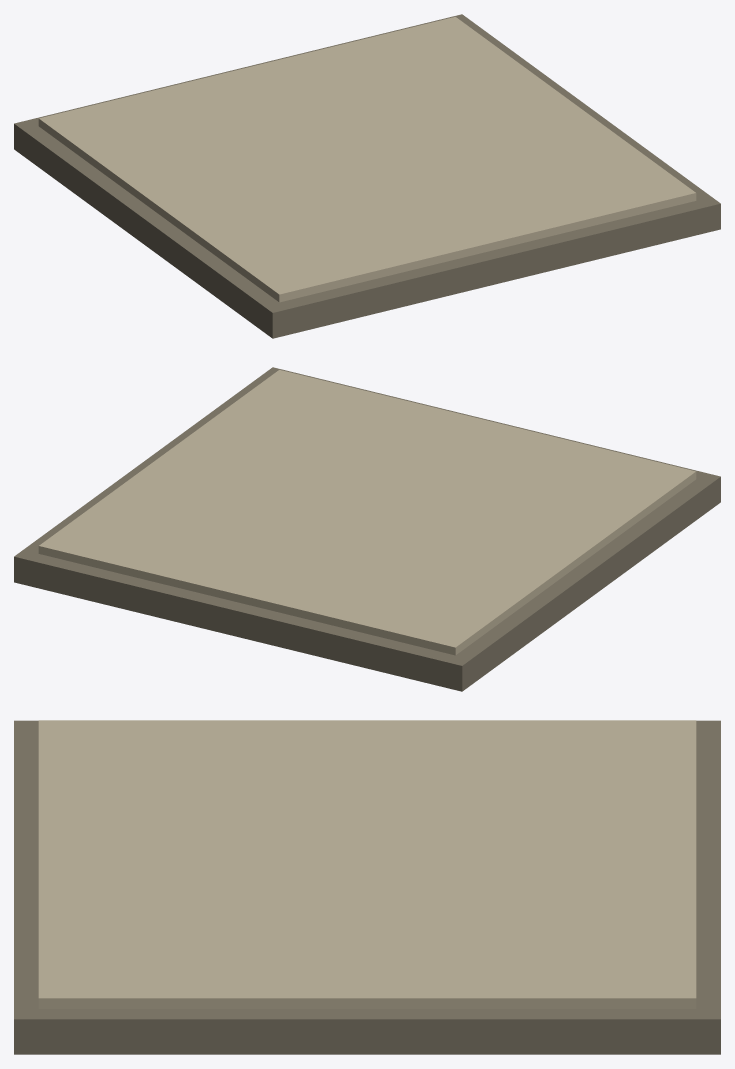
Rendered from k_meadow_floor_b.glb.
The picture shows the model from 3 angles, top to bottom: view 1: azimuth 30°, elevation 25°; view 2: azimuth 150°, elevation 25°; view 3: azimuth 270°, elevation 25°; orthographic projection. The views are drawn at different scales.
Parts seen in each view (by area): view 1: piece; view 2: piece; view 3: piece.
Part boxes in pixels (x1,y1,x2,y2): piece: (14,14,720,338); piece: (14,367,720,691); piece: (14,720,720,1054).
Size of the model in its own units: 1 by 0.0719 by 1.
